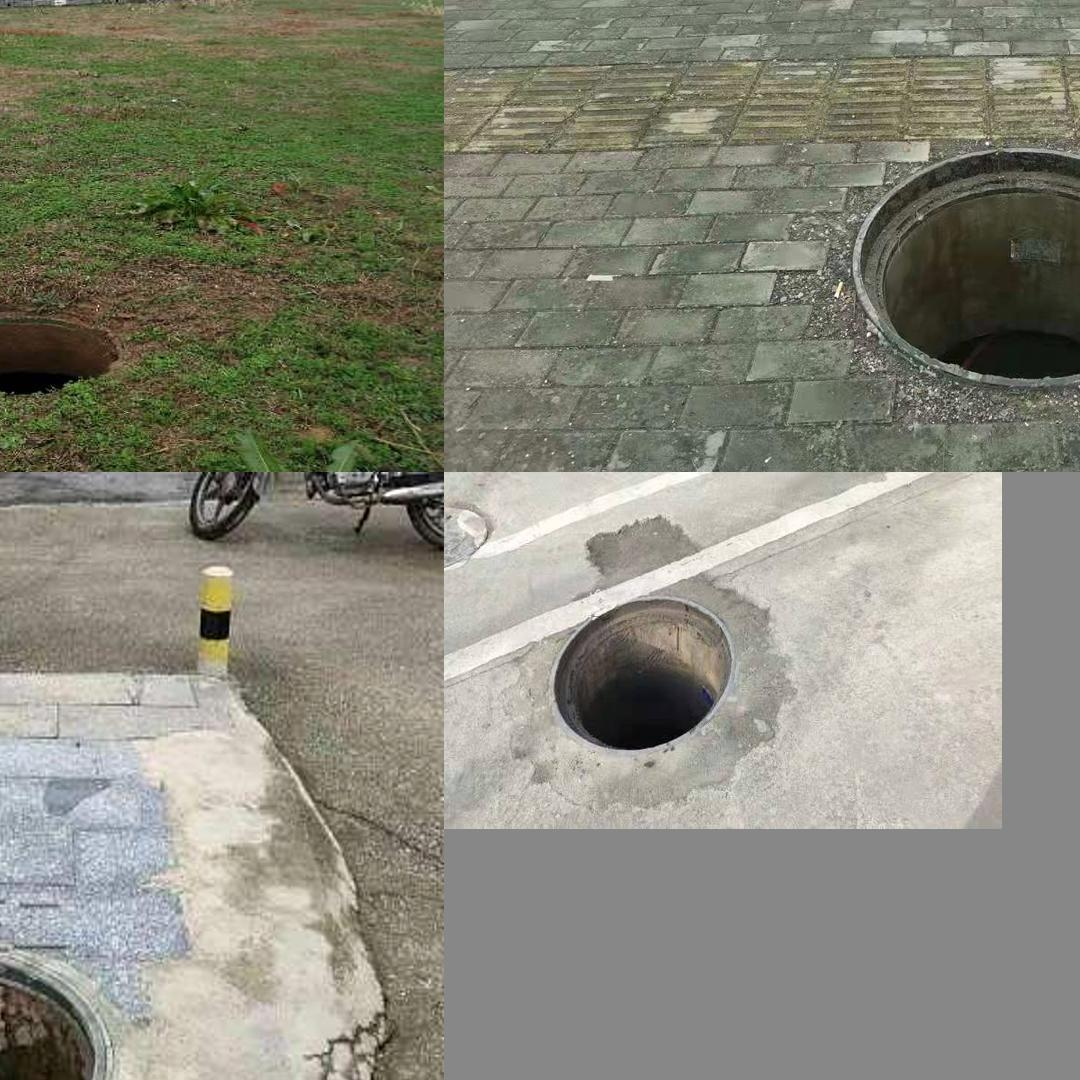lose: (853, 147, 1080, 388), (547, 592, 731, 761), (0, 926, 125, 1080), (0, 310, 124, 400)
